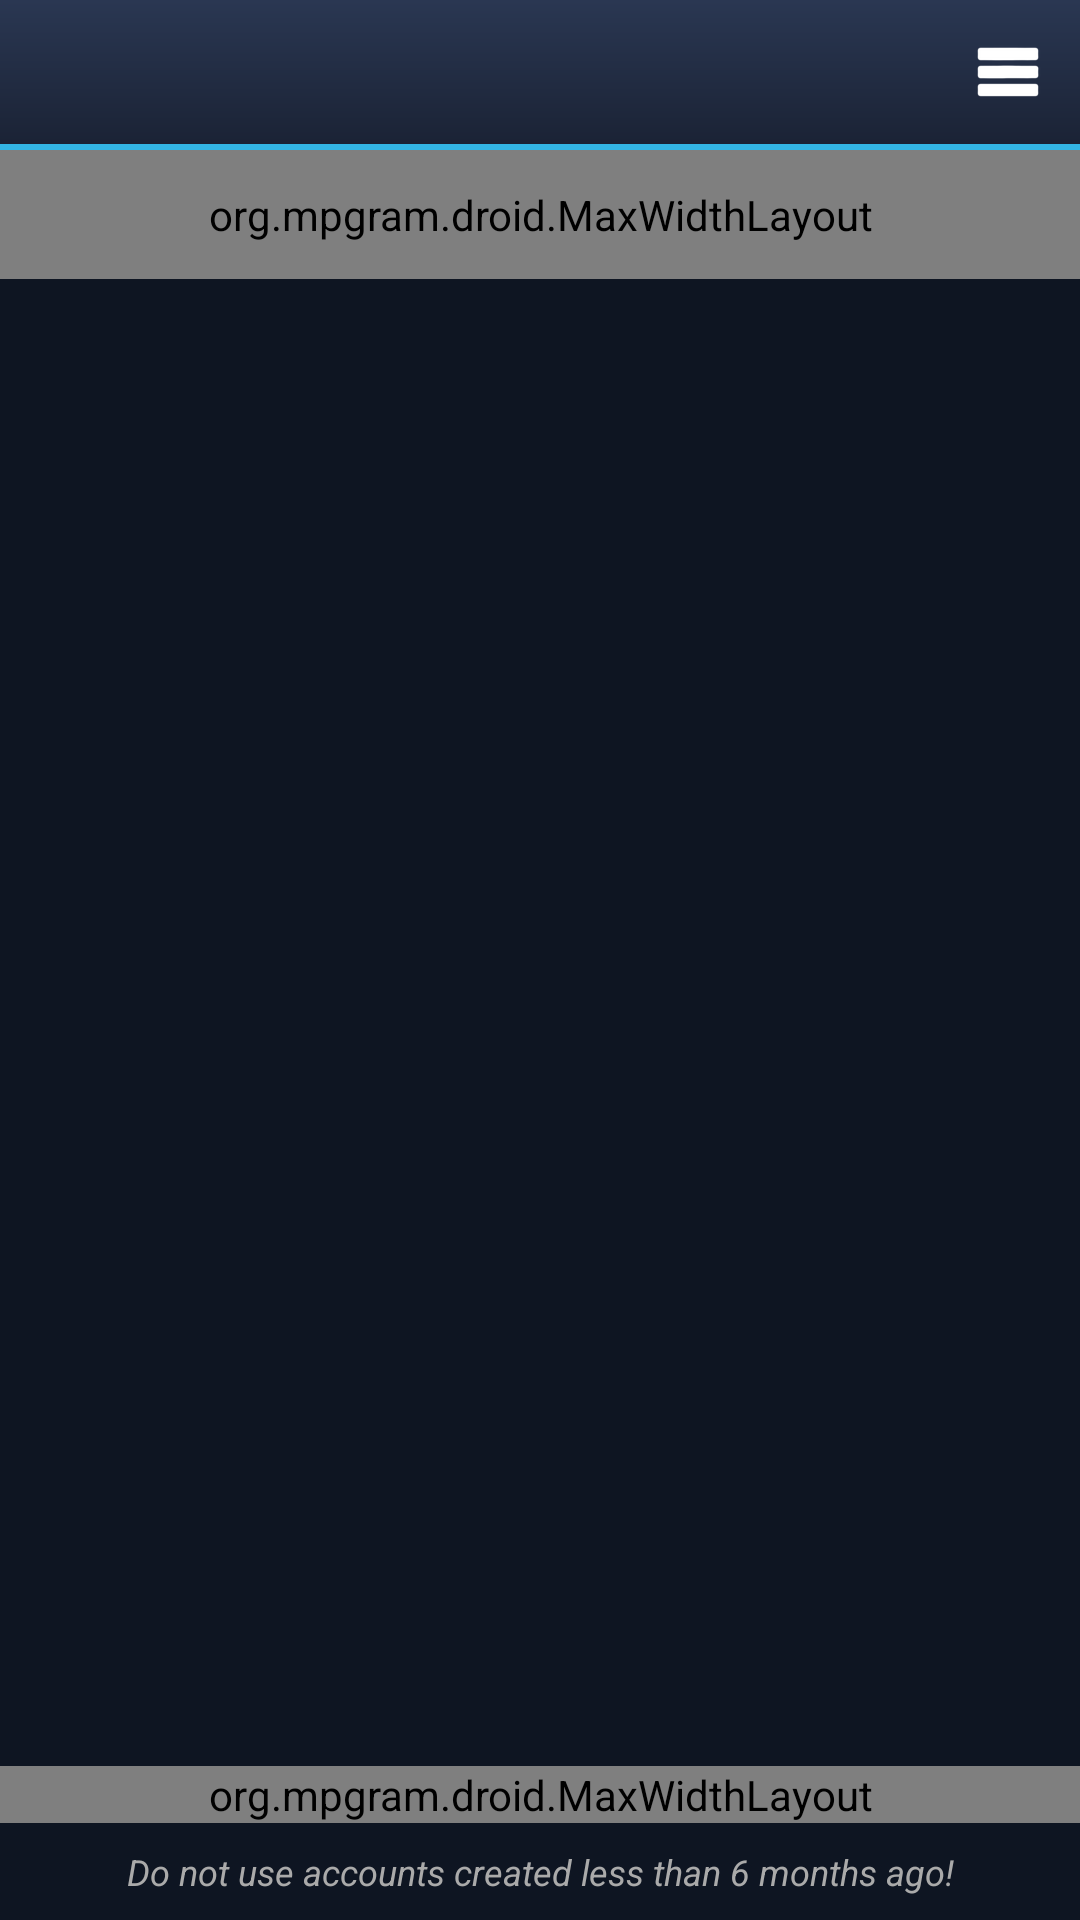

Point at icon controls on the screen. Image size 1080*1920, points as (x=x, y=y).
Menu: (x=1008, y=72)
